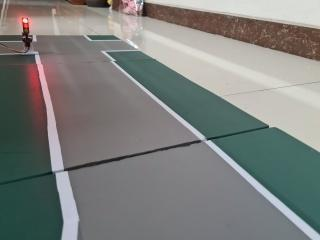red: (17, 11, 36, 53)
